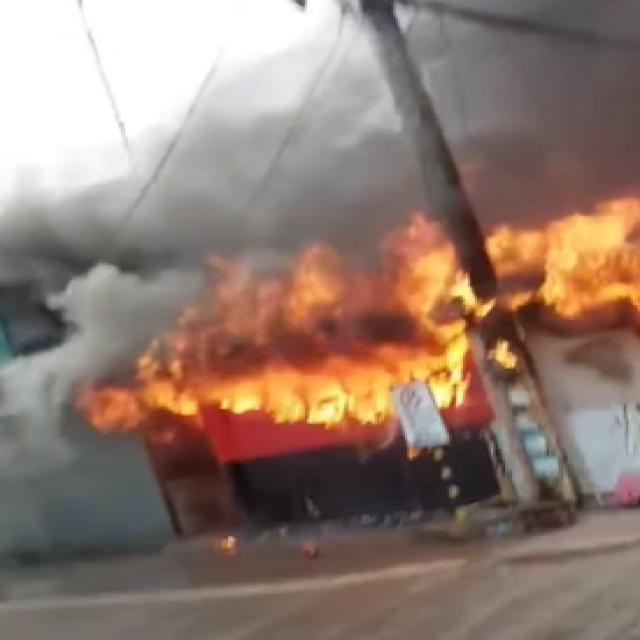Fire: (200, 226, 470, 399), (86, 349, 377, 441), (498, 206, 640, 312)
Smoke: (8, 195, 246, 430), (407, 0, 640, 235), (206, 75, 442, 272)
